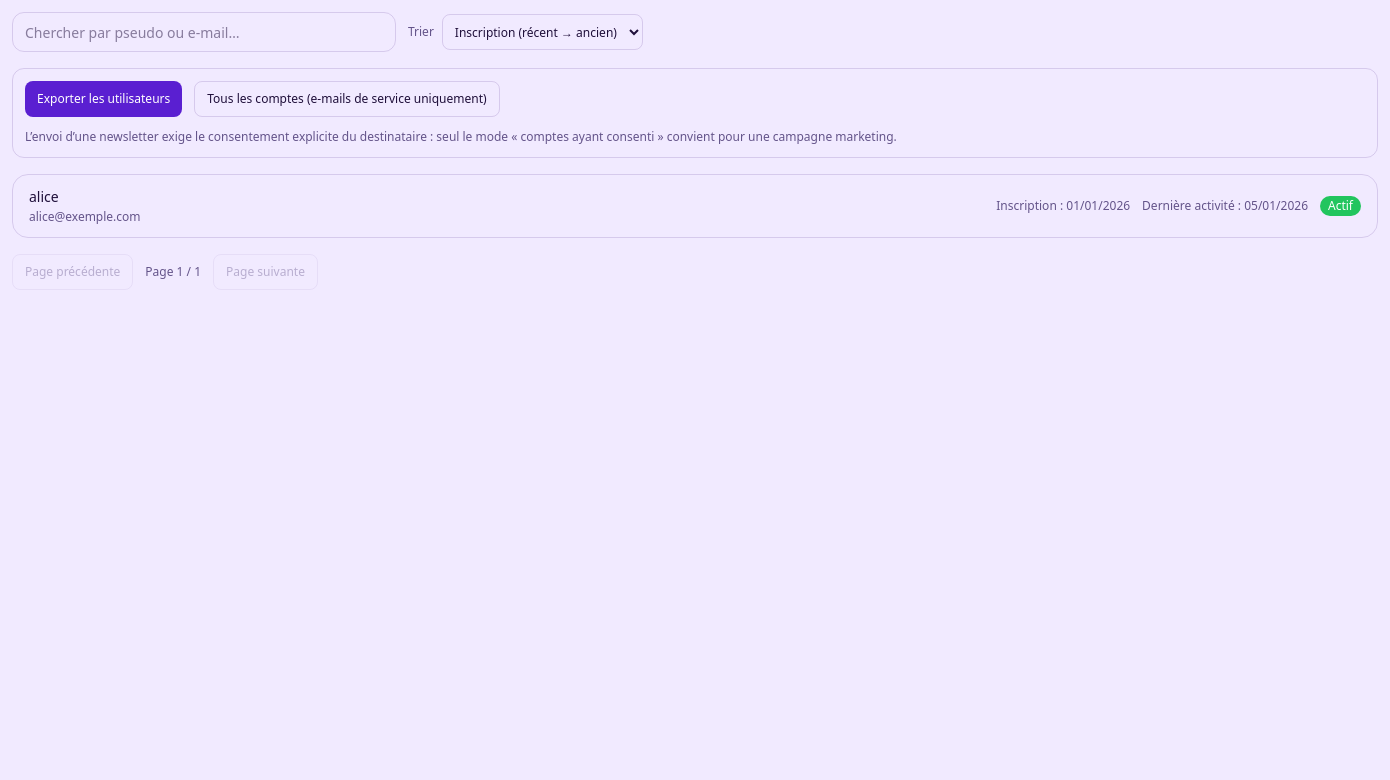
Test: AdminUsersPanel — erreur affichée, liste vide, comptes sans profil (LOT 3) › une action de modération qui échoue montre le vrai motif
Click the text "alice" at (44,196), box [29,187,59,206]
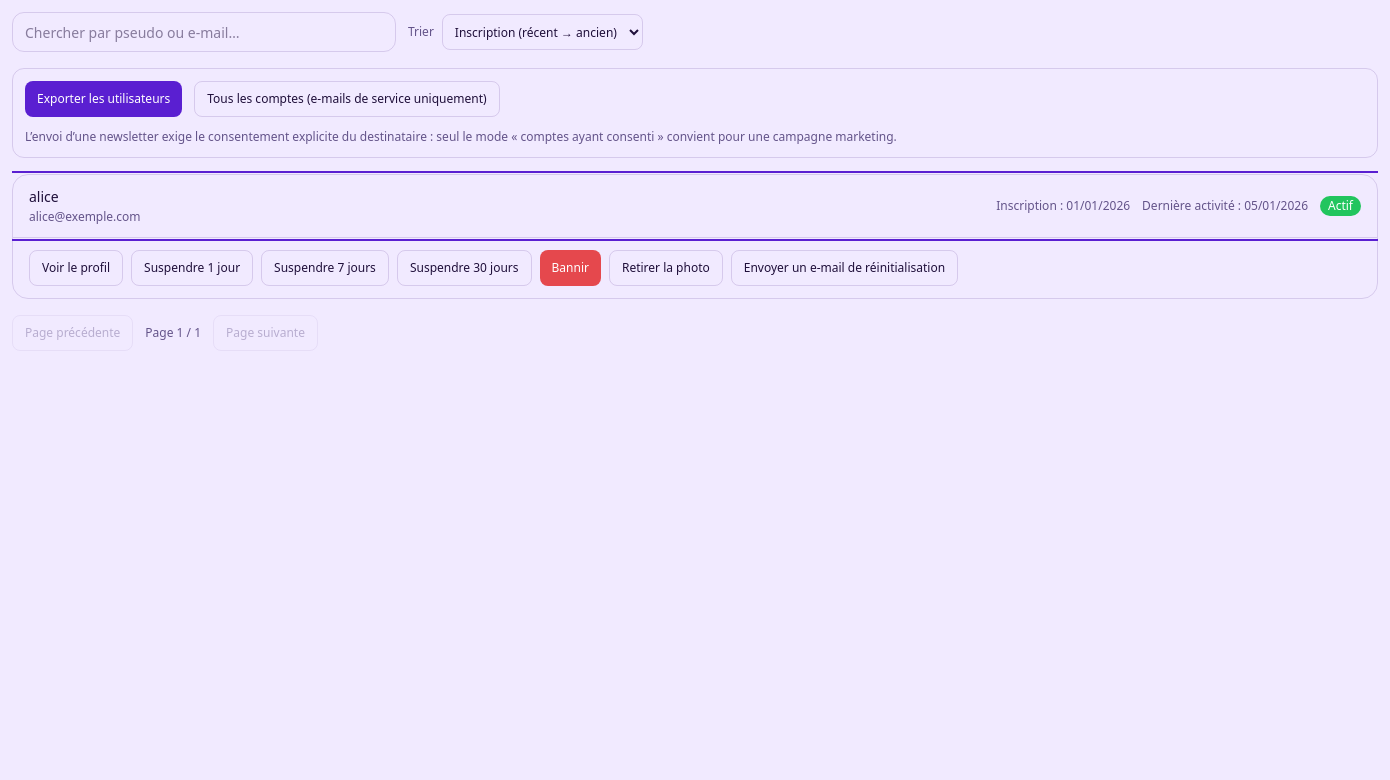
Click the button "Suspendre 1 jour" at (192,268), box [131,250,253,286]
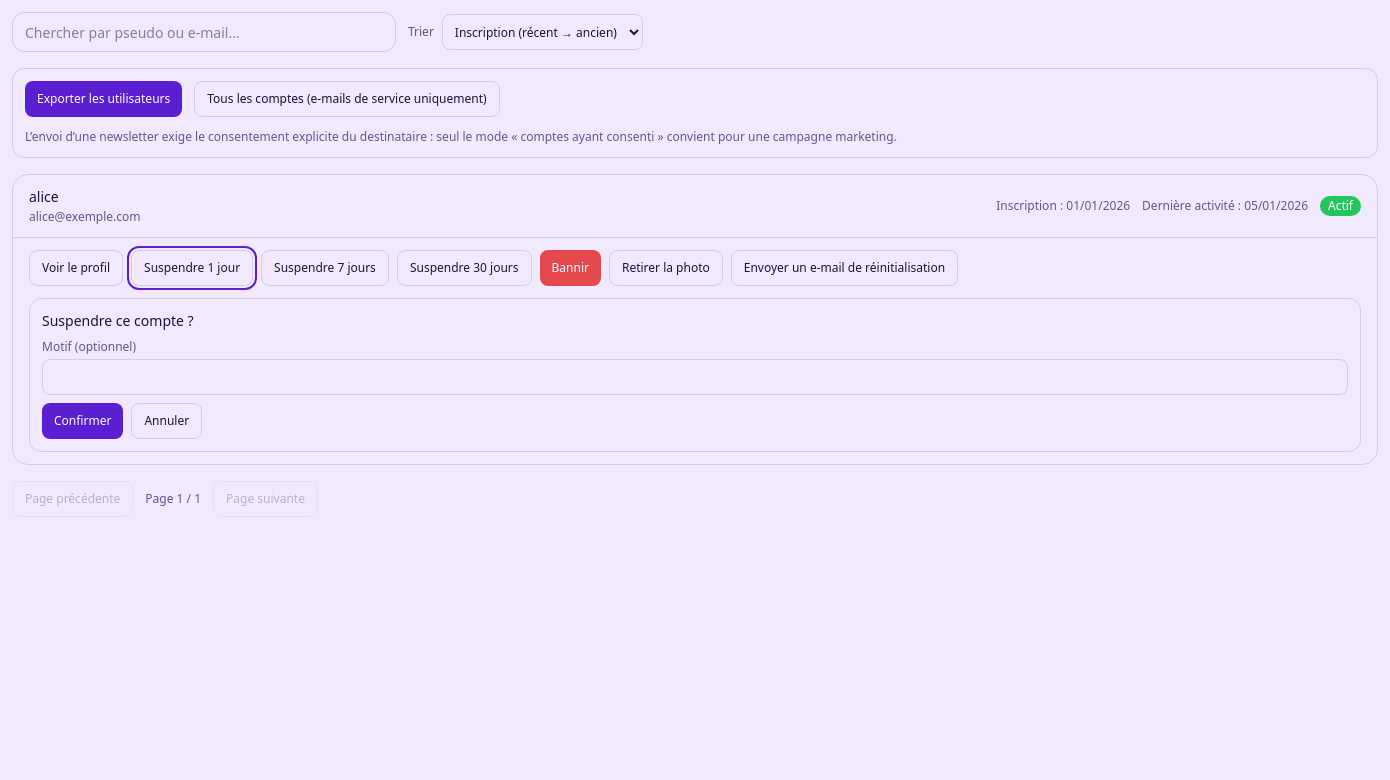
Click the button "Confirmer" at (83,421), box [42,403,123,439]
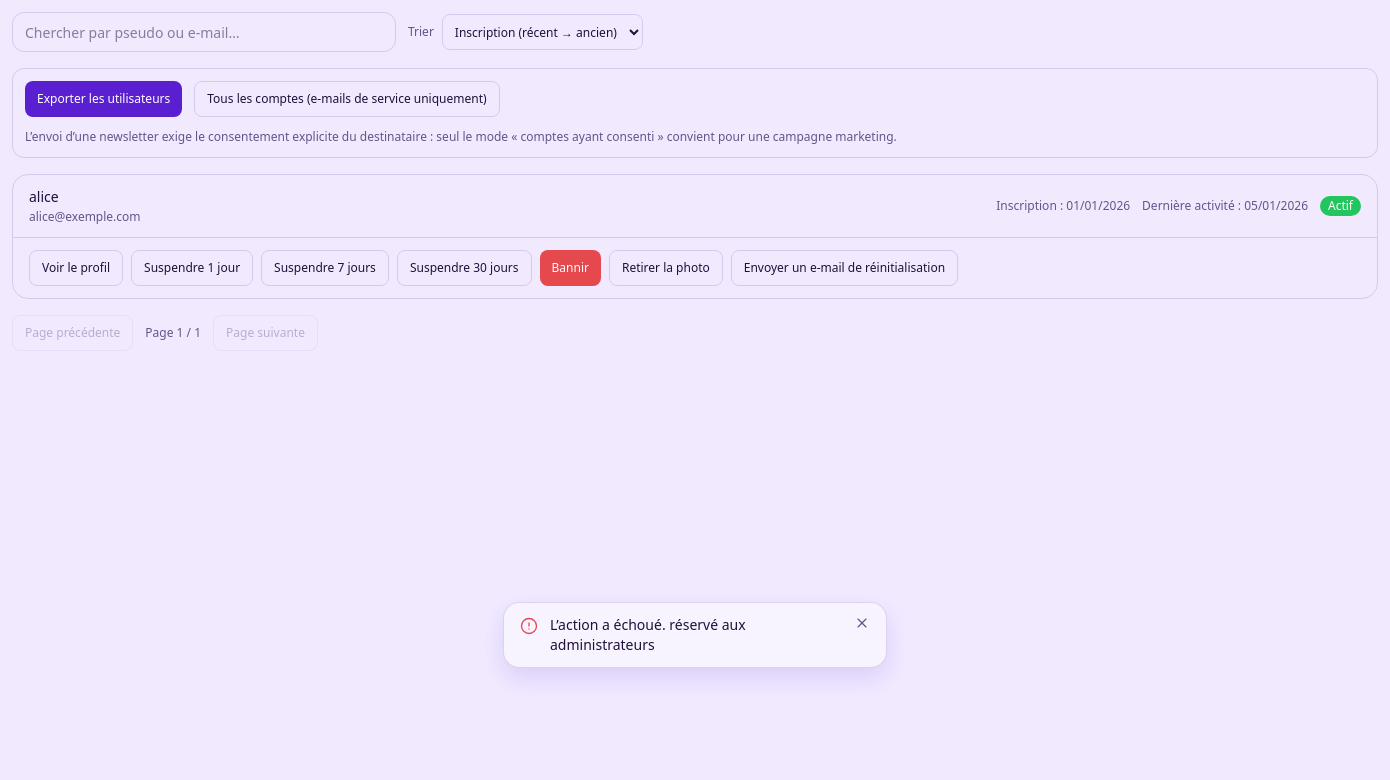
Now the text "L’action a échoué. réservé aux administrateurs" is shown, box [550,615,746,654]
